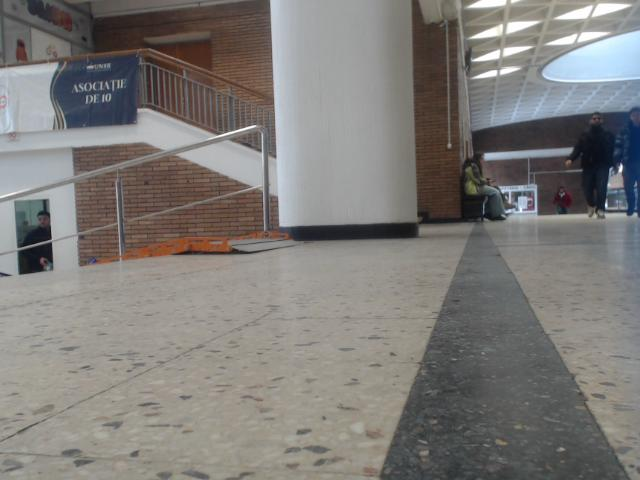rampDown: (98, 232, 299, 262)
ramps-railing: (0, 125, 270, 259), (160, 185, 260, 214), (126, 211, 160, 223)
